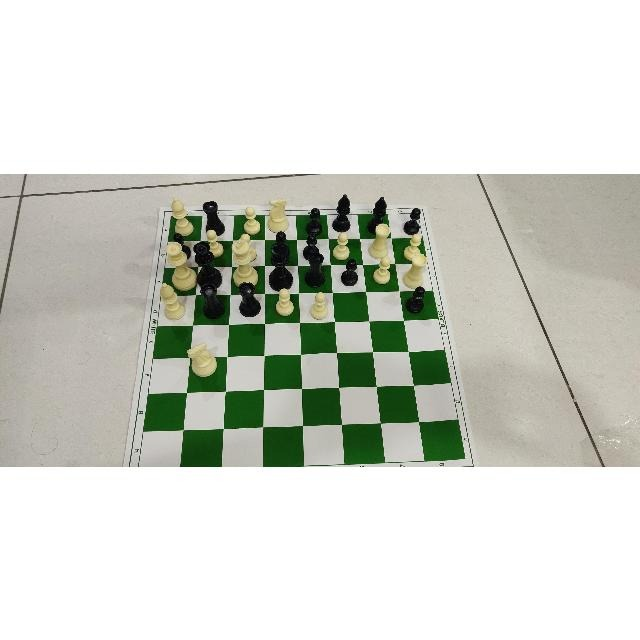black-bishop: (331, 188, 353, 232), (367, 191, 387, 233)
black-king: (267, 239, 295, 291)
black-pawn: (303, 205, 323, 235), (340, 256, 360, 286), (171, 231, 191, 259), (271, 230, 291, 258), (301, 232, 321, 260), (406, 285, 426, 313), (404, 204, 422, 234)
black-queen: (191, 240, 222, 289)
black-rook: (199, 199, 227, 237), (197, 281, 225, 318), (237, 280, 261, 317), (303, 250, 326, 288)
white-bishop: (167, 192, 195, 237), (157, 278, 187, 320)
white-king: (230, 237, 258, 289)
white-knight: (183, 339, 218, 378), (266, 194, 291, 233)
white-pawn: (239, 204, 262, 235), (272, 286, 295, 317), (308, 289, 330, 320), (401, 232, 424, 261), (236, 231, 257, 262), (204, 226, 224, 257), (372, 254, 392, 285), (331, 231, 351, 260)
white-queen: (164, 239, 197, 291)
white-rook: (402, 251, 428, 288), (368, 222, 391, 260)
